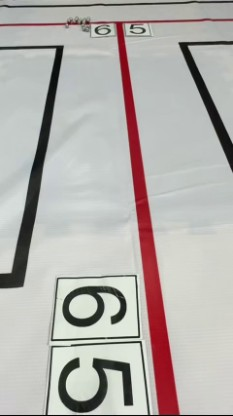ironball: (83, 17, 94, 26), (81, 20, 88, 26), (62, 22, 68, 28), (68, 15, 73, 22), (73, 15, 78, 22), (65, 16, 68, 24), (77, 20, 81, 26), (81, 19, 84, 26), (68, 16, 70, 20)
